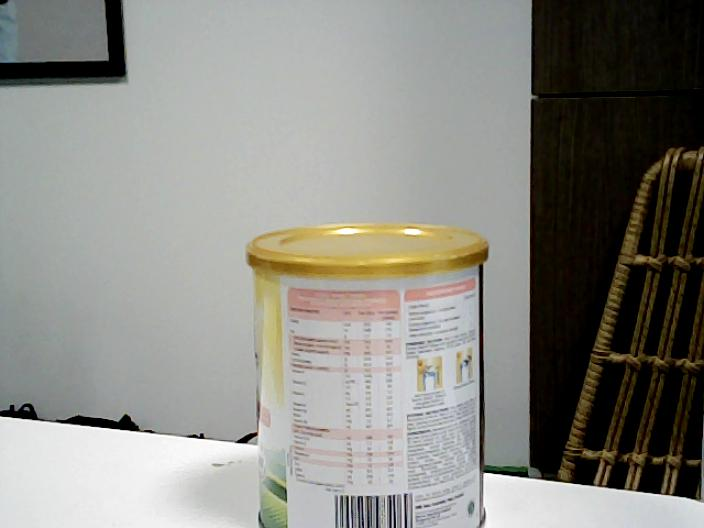MaternalMilkPowder_600-699g_NonHalal_NonHealthy: (244, 222, 492, 528)
